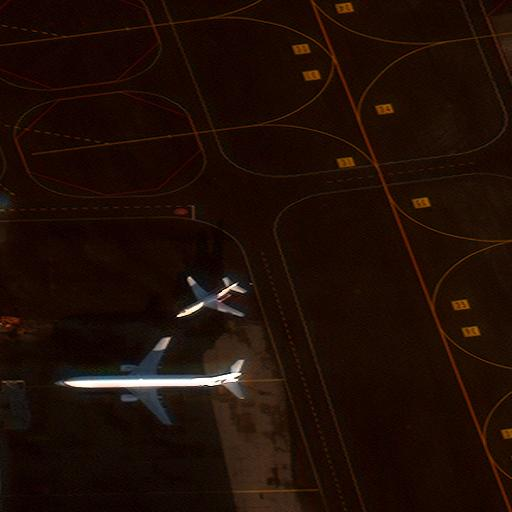Medium Civil Transport: (53, 338, 241, 424), (176, 278, 242, 318)
